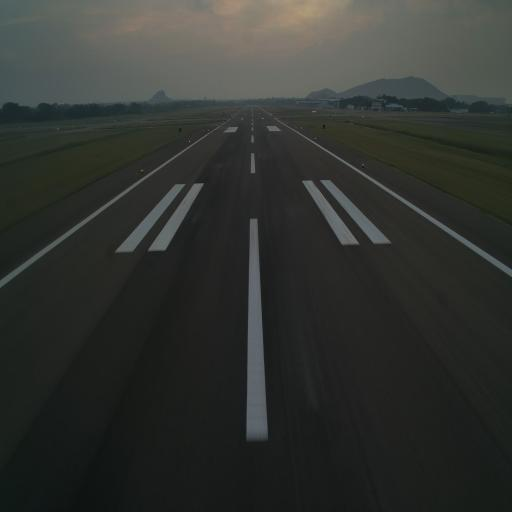on: (360, 160, 366, 169), (140, 166, 145, 174)
